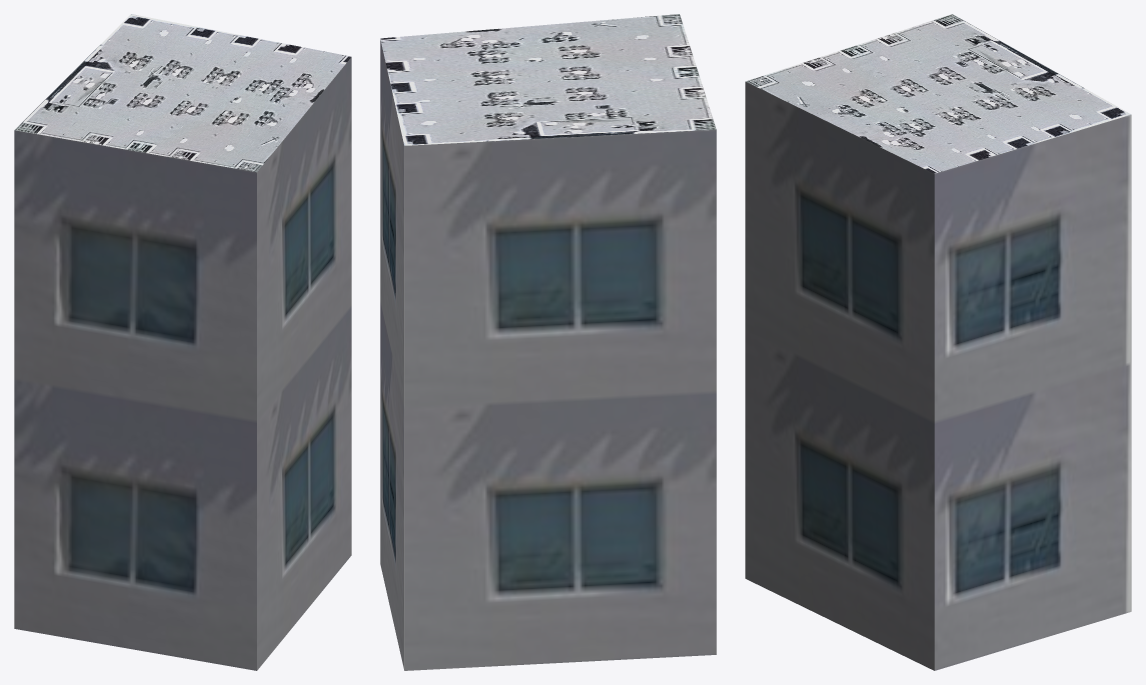
The model's file is ResTex__1509.fbx.
3 views of the same model, side by side, from view 1: azimuth 30°, elevation 25°; view 2: azimuth 150°, elevation 25°; view 3: azimuth 270°, elevation 25° (orthographic). The views are drawn at different scales.
Visible parts, largest first — view 1: CityEngineMaterial_10_m, CityEngineMaterial_4_m; view 2: CityEngineMaterial_10_m, CityEngineMaterial_4_m; view 3: CityEngineMaterial_10_m, CityEngineMaterial_4_m.
Boxes of the visible parts, x1,y1,x2,y2 form: CityEngineMaterial_10_m: (14,57,351,670); CityEngineMaterial_4_m: (14,14,351,172); CityEngineMaterial_10_m: (380,40,716,670); CityEngineMaterial_4_m: (380,14,716,145); CityEngineMaterial_10_m: (745,81,1131,670); CityEngineMaterial_4_m: (746,14,1130,173).
Bounding box in the file's own units: 4.14 × 6 × 4.23.
Materials: 2 (2 with a texture image).
